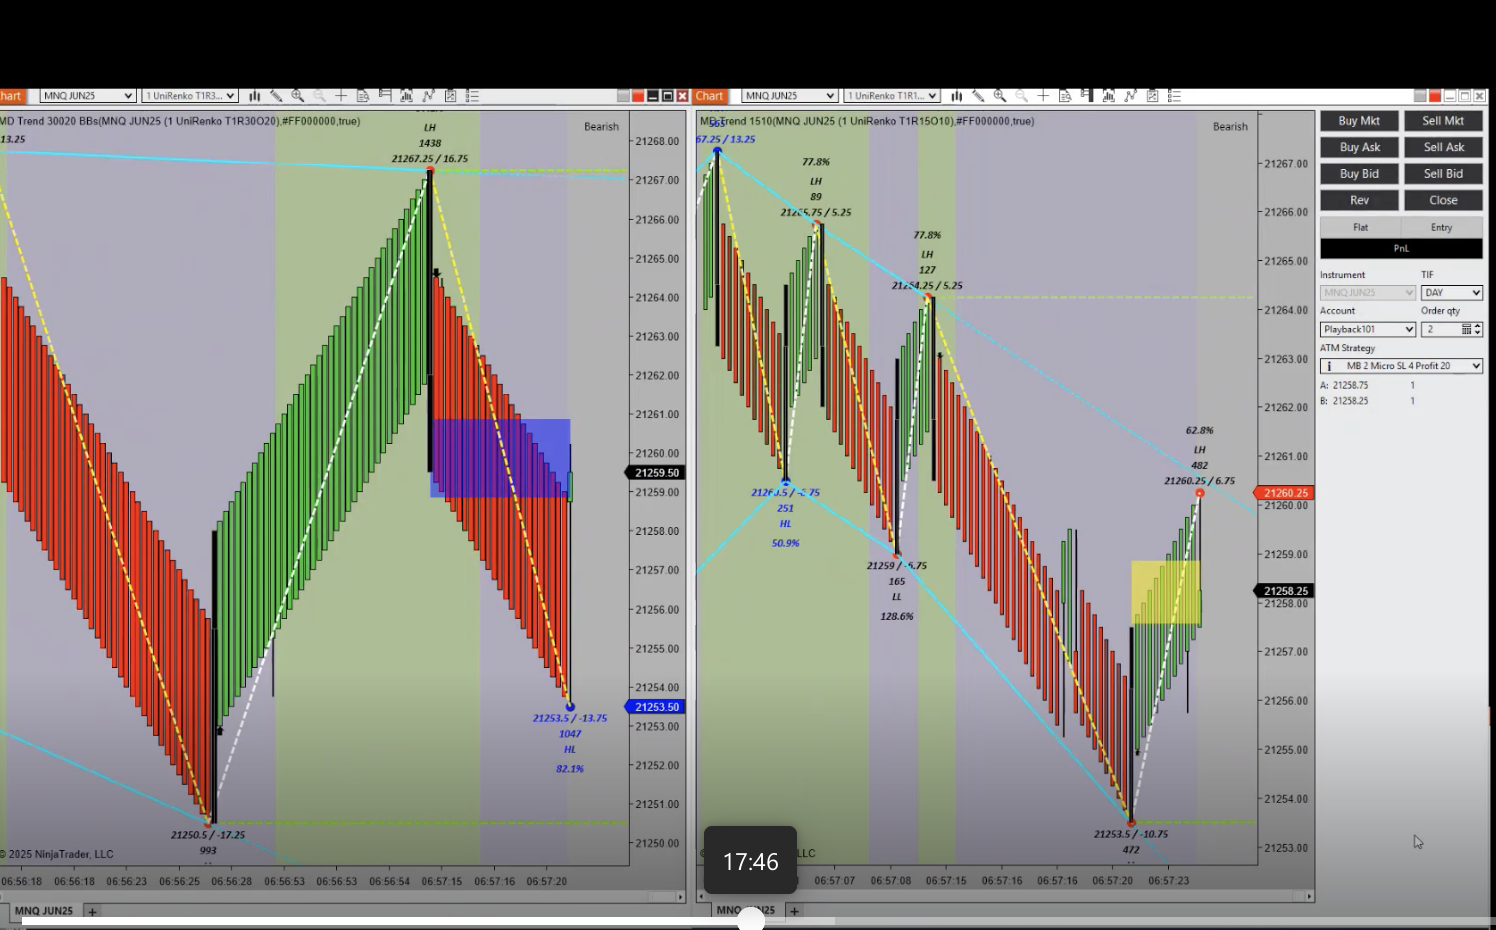candle: (426, 169, 437, 477), (211, 532, 218, 827), (817, 219, 827, 415), (894, 360, 903, 559), (714, 152, 723, 350), (930, 299, 938, 486), (1129, 632, 1136, 825), (784, 284, 789, 484)
